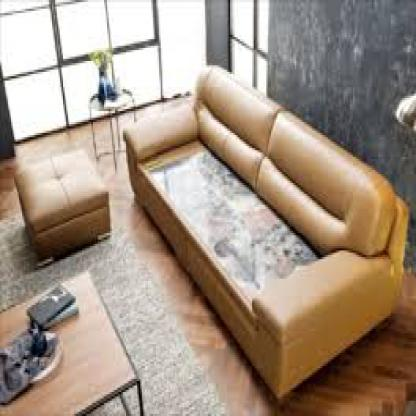sofa: (125, 74, 397, 401)
